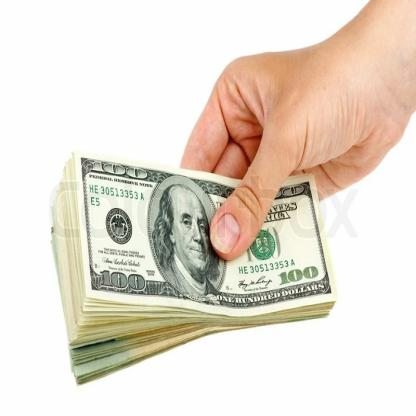billete: (45, 144, 341, 387)
